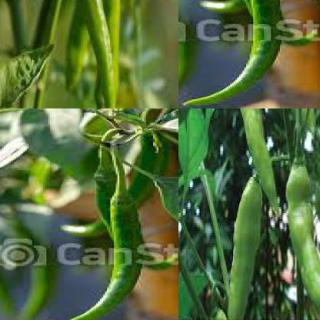green_chilli: (42, 194, 143, 319), (60, 133, 178, 234), (182, 0, 282, 108), (50, 0, 118, 108), (227, 172, 265, 320), (284, 162, 319, 318), (231, 108, 280, 214), (84, 0, 124, 108), (94, 167, 118, 240), (233, 0, 257, 16)
